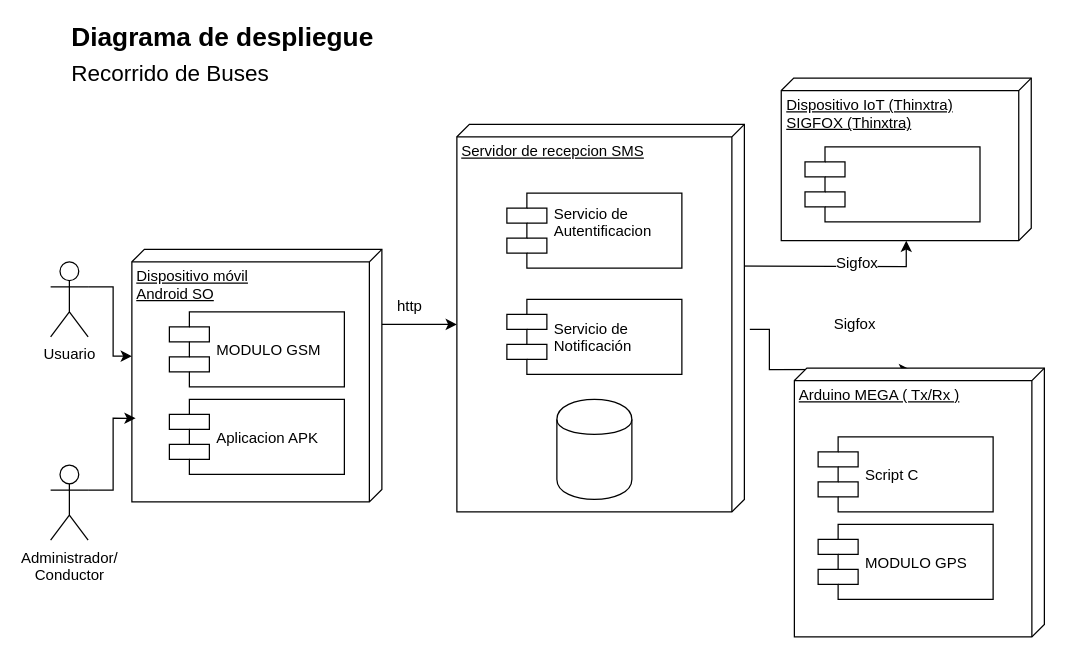
Image size: 1066x659. Some labels were removed from this diagram. The centre of each missing label's shape, as x and y in pixels:
"Aplicación IoT Script Java" goes at point 892,184.
"FireBase (database)" goes at point 594,448.
